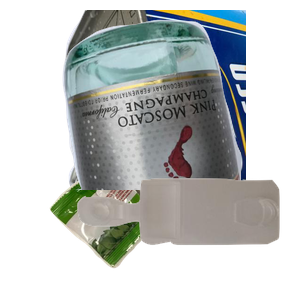glass: (60, 17, 300, 197)
metal: (60, 10, 300, 190)
plastic: (75, 176, 300, 300)
trash: (47, 146, 220, 300)
